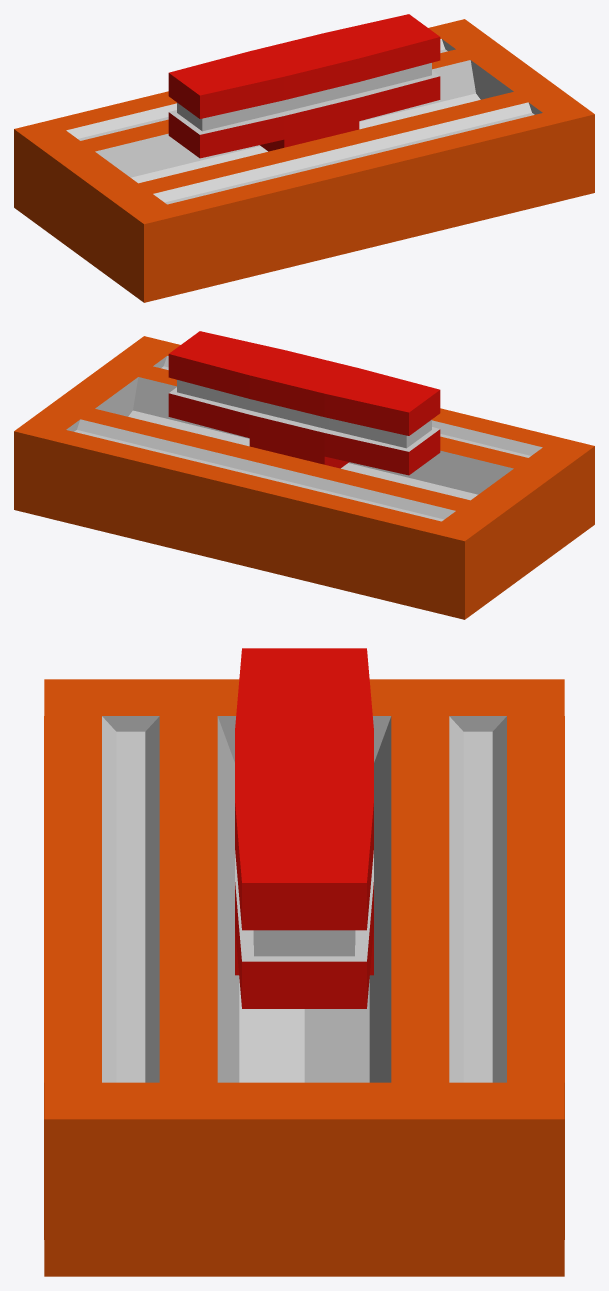
The model's file is Slider.fbx.
The picture shows the model from 3 angles, top to bottom: view 1: azimuth 30°, elevation 25°; view 2: azimuth 150°, elevation 25°; view 3: azimuth 270°, elevation 25°; orthographic projection. The views are drawn at different scales.
Parts seen in each view (by area): view 1: Slider Base, Cube, Cube.002, Cube.001; view 2: Slider Base, Cube, Cube.002, Cube.001; view 3: Slider Base, Cube.001, Cube, Cube.002.
Part boxes in pixels (box(x1,y1,x2,y2)): Slider Base: box(52, 38, 557, 293); Cube: box(168, 14, 440, 158); Cube.002: box(14, 120, 181, 302); Cube.001: box(428, 19, 594, 201); Slider Base: box(51, 355, 556, 610); Cube: box(168, 331, 440, 475); Cube.002: box(427, 437, 594, 619); Cube.001: box(14, 336, 180, 518); Slider Base: box(44, 716, 564, 1239); Cube.001: box(44, 1082, 564, 1276); Cube: box(235, 648, 373, 1008); Cube.002: box(44, 679, 564, 762).
Bounding box in the file's own units: 0.06 × 0.0185 × 0.03.
